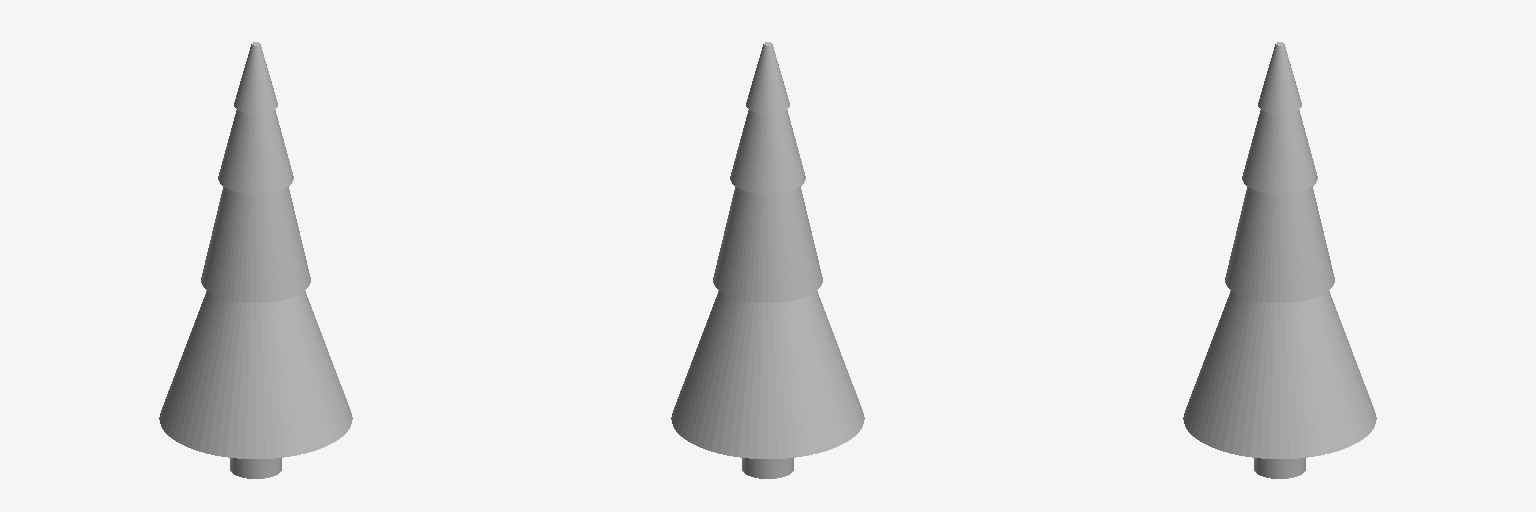
Rendered from fir3.obj.
The picture shows the model from 3 angles: view 1: azimuth 30°, elevation 25°; view 2: azimuth 150°, elevation 25°; view 3: azimuth 270°, elevation 25°; orthographic projection.
Parts seen in each view (by area): view 1: Cylinder.012; view 2: Cylinder.012; view 3: Cylinder.012.
Boxes of the visible parts, x1,y1,x2,y2 form: Cylinder.012: [159, 42, 352, 478]; Cylinder.012: [671, 42, 864, 478]; Cylinder.012: [1183, 42, 1376, 478].
Bounding box in the file's own units: 1.41 × 3.41 × 1.41.